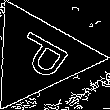P_SE: (3, 27, 73, 86)
